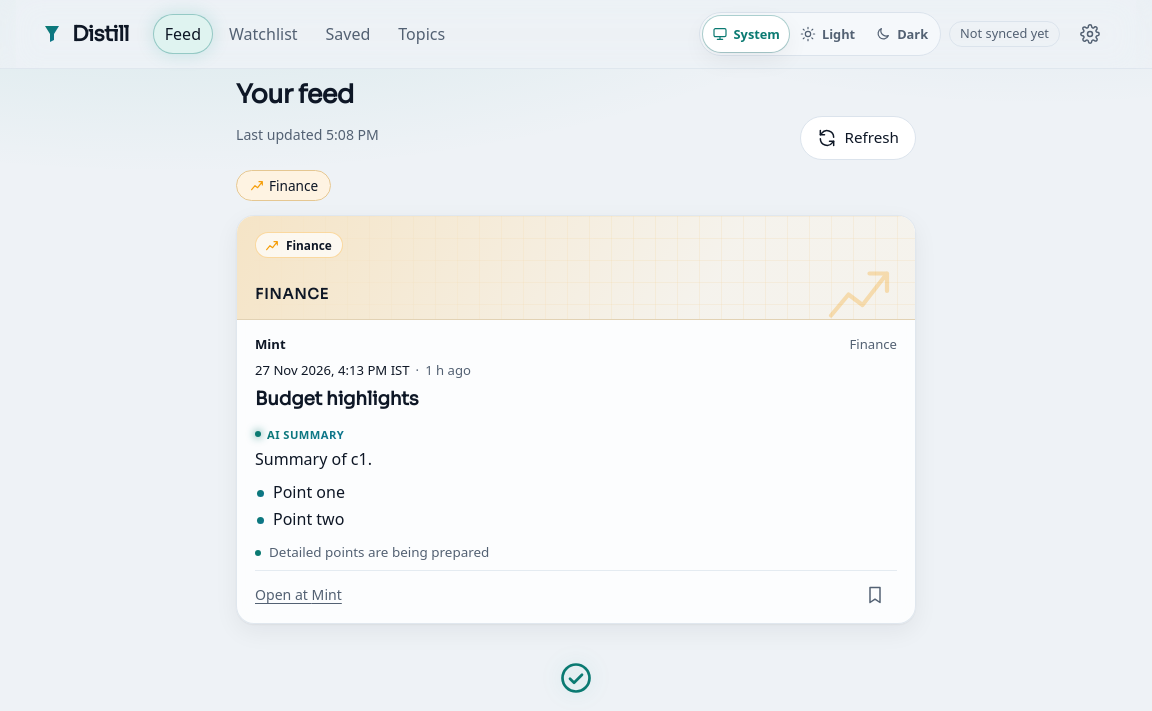
Test case: US-6: Save, expire and replace (on the device) › AC-6.6: with the data server offline, saving keeps the change here, says it will sync later, and syncs on the next request
Click the button named "Save “Budget highlights”" at (875, 595), box x1=853 y1=573 x2=897 y2=617
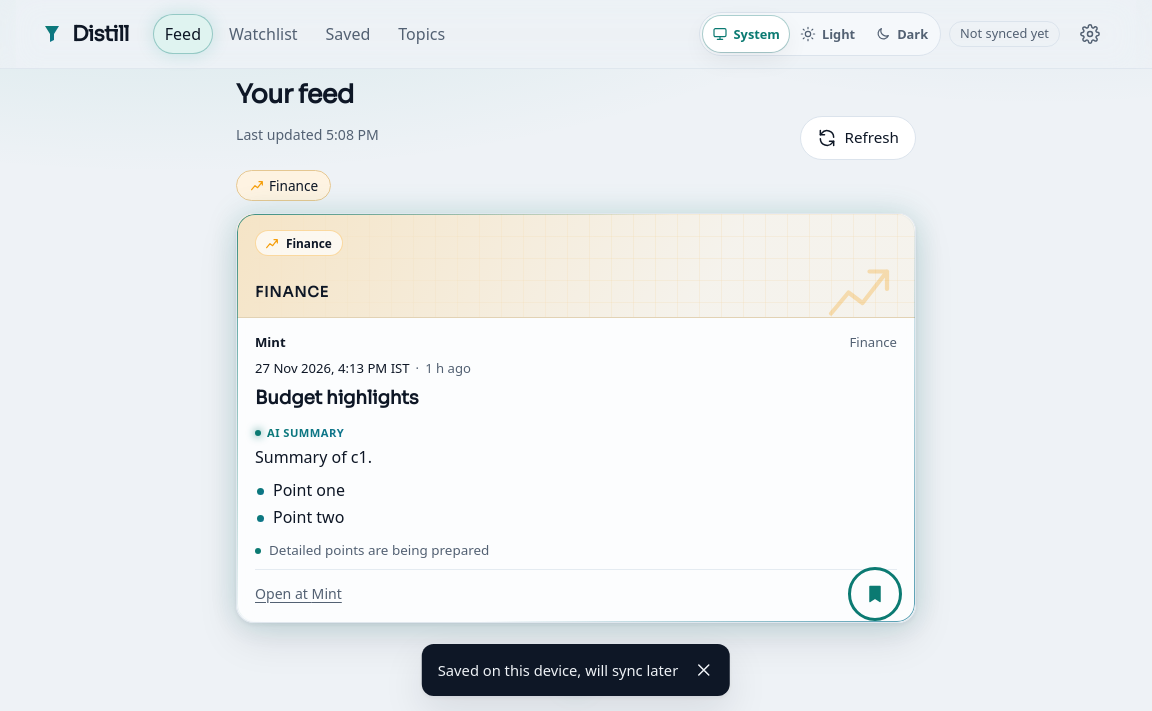
Result: the text "Saved on this device, will sync later" is shown at x1=438 y1=659 x2=678 y2=681
